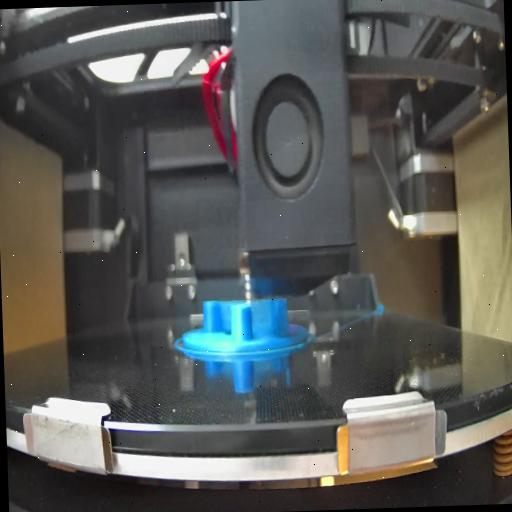stringing: (252, 297, 280, 335), (217, 301, 231, 333)
